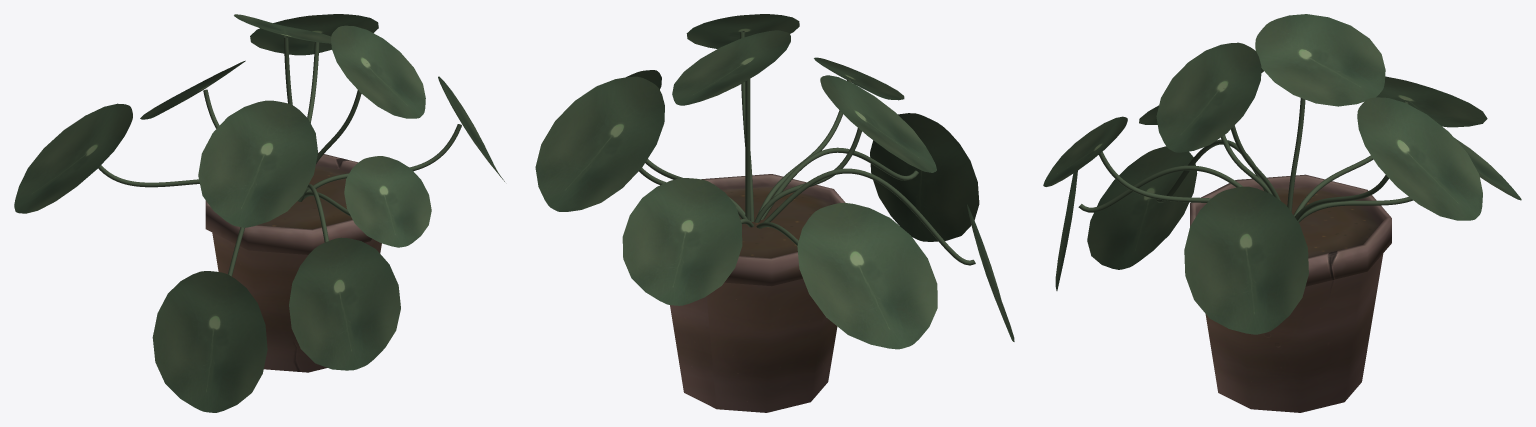
Rendered from plant.gltf.
The picture shows the model from 3 angles, left to right: view 1: azimuth 30°, elevation 25°; view 2: azimuth 150°, elevation 25°; view 3: azimuth 270°, elevation 25°; orthographic projection. The views are drawn at different scales.
Parts seen in each view (by area): view 1: Object_3, Object_2, Object_5; view 2: Object_3, Object_2, Object_5; view 3: Object_3, Object_2, Object_5.
Part boxes in pixels (left/top/right/bottom): Object_3: left=14, top=14, right=504, bottom=412; Object_2: left=205, top=152, right=381, bottom=372; Object_5: left=98, top=36, right=461, bottom=276; Object_3: left=535, top=14, right=1014, bottom=349; Object_2: left=670, top=174, right=845, bottom=412; Object_5: left=639, top=31, right=975, bottom=265; Object_3: left=1043, top=14, right=1521, bottom=334; Object_2: left=1190, top=174, right=1391, bottom=412; Object_5: left=1078, top=98, right=1413, bottom=222.
Size of the model in its own units: 3.35 by 2.55 by 3.17.
Materials: 3 (2 with a texture image).
